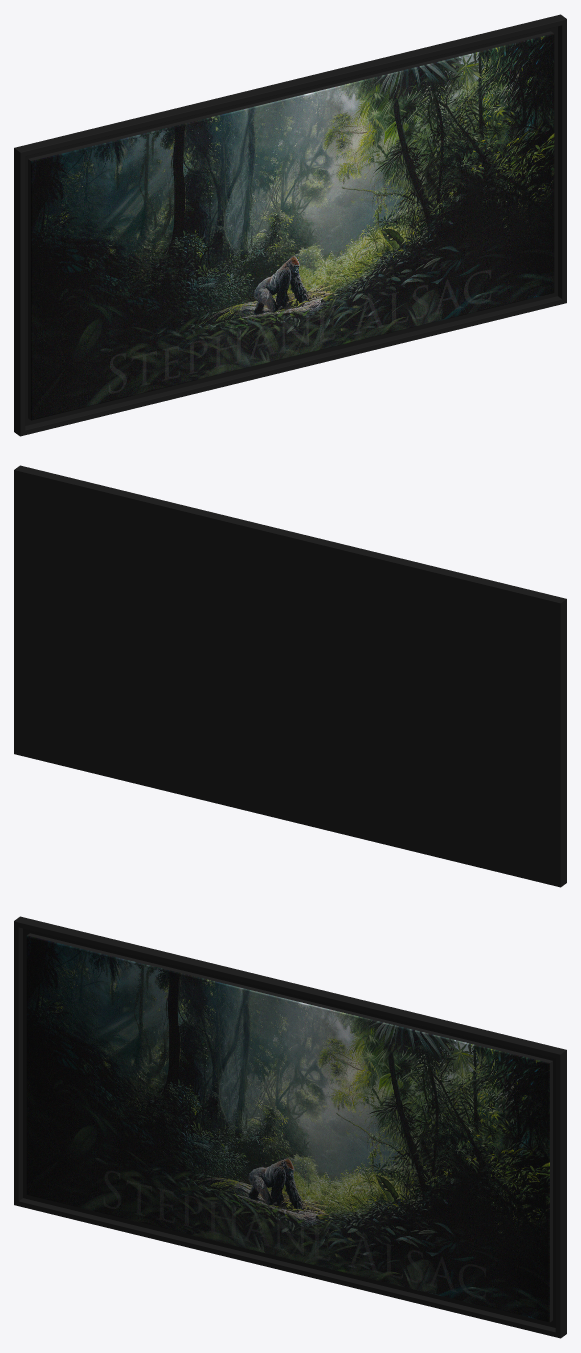
File: tableau-gorille-jungle-geant.glb
The picture shows the model from 3 angles, top to bottom: view 1: azimuth 30°, elevation 25°; view 2: azimuth 150°, elevation 25°; view 3: azimuth 330°, elevation 25°; orthographic projection.
Parts seen in each view (by area): view 1: Painting; view 2: Painting; view 3: Painting.
Boxes of the visible parts, x1=… form: Painting: x1=14, y1=14, x2=566, y2=436; Painting: x1=14, y1=465, x2=566, y2=887; Painting: x1=14, y1=916, x2=566, y2=1338.
Size of the model in its own units: 1.99 by 0.986 by 0.04.
4 materials, 1 textured.
